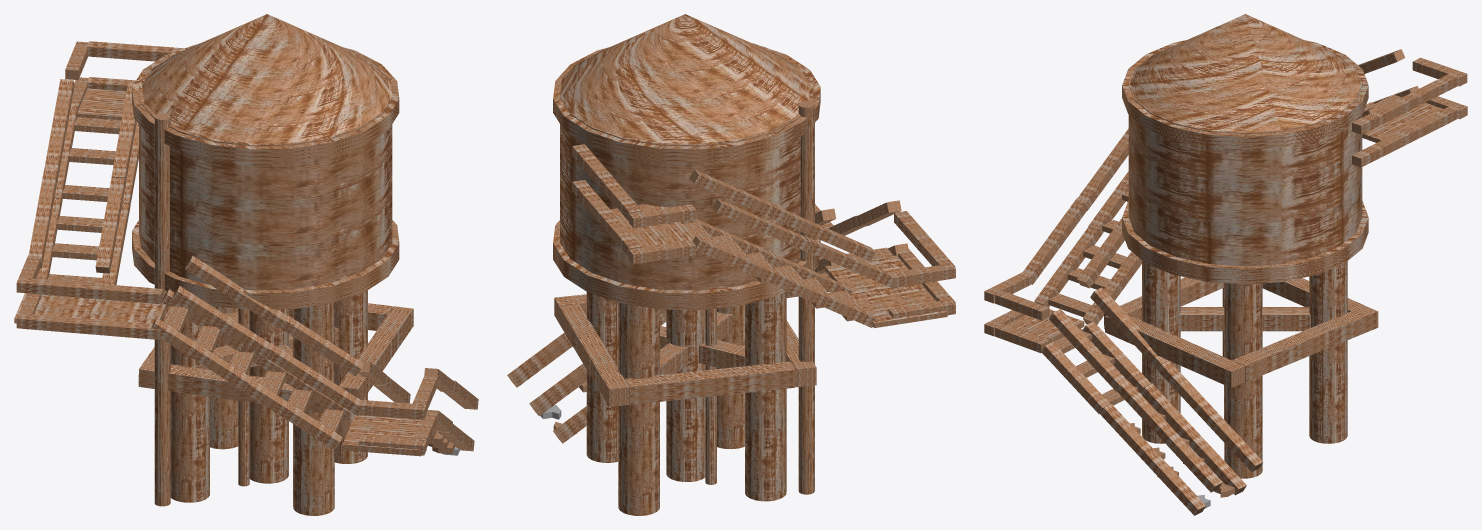
The model's file is Water Tower.fbx.
The picture shows the model from 3 angles, left to right: view 1: azimuth 30°, elevation 25°; view 2: azimuth 150°, elevation 25°; view 3: azimuth 270°, elevation 25°; orthographic projection. The views are drawn at different scales.
Parts seen in each view (by area): view 1: pCylinder1, pCone1, pCylinder9, pCylinder10, pCylinder3, pCylinder5, pCylinder6, pCylinder7, pCube9, pCube71, pCylinder4, pCube7 (+33 smaller); view 2: pCone1, pCylinder1, pCylinder2, pCylinder5, pCylinder9, pCylinder6, pCylinder10, pCube5, pCylinder4, pCube71, pCylinder7, pCube8 (+27 smaller); view 3: pCylinder1, pCone1, pCylinder2, pCylinder4, pCylinder9, pCube8, pCylinder7, pCylinder3, pCube7, pCylinder8, pCube10, pCube12 (+25 smaller).
Boxes of the visible parts, bbox=[...] form: pCylinder1: bbox=[139, 55, 392, 290]; pCone1: bbox=[142, 14, 392, 143]; pCylinder9: bbox=[132, 43, 399, 163]; pCylinder10: bbox=[154, 113, 170, 506]; pCylinder3: bbox=[293, 302, 334, 515]; pCylinder5: bbox=[170, 319, 209, 502]; pCylinder6: bbox=[249, 309, 288, 483]; pCylinder7: bbox=[132, 220, 399, 302]; pCube9: bbox=[138, 360, 326, 412]; pCube71: bbox=[14, 293, 167, 323]; pCylinder4: bbox=[334, 290, 367, 463]; pCube7: bbox=[339, 306, 413, 399]; pCone1: bbox=[560, 14, 810, 143]; pCylinder1: bbox=[560, 54, 813, 290]; pCylinder2: bbox=[618, 302, 659, 515]; pCylinder5: bbox=[745, 291, 786, 501]; pCylinder9: bbox=[553, 43, 820, 163]; pCylinder6: bbox=[666, 309, 705, 481]; pCylinder10: bbox=[798, 101, 814, 494]; pCube5: bbox=[625, 361, 795, 404]; pCylinder4: bbox=[586, 292, 618, 462]; pCube71: bbox=[825, 255, 947, 327]; pCylinder7: bbox=[553, 220, 820, 303]; pCube8: bbox=[559, 304, 629, 406]; pCylinder1: bbox=[1128, 44, 1362, 266]; pCone1: bbox=[1130, 14, 1360, 132]; pCylinder2: bbox=[1309, 261, 1347, 443]; pCylinder4: bbox=[1224, 283, 1262, 478]; pCylinder9: bbox=[1122, 40, 1368, 149]; pCube8: bbox=[1232, 306, 1378, 382]; pCylinder7: bbox=[1122, 201, 1368, 277]; pCylinder3: bbox=[1142, 260, 1180, 443]; pCube7: bbox=[1105, 315, 1244, 387]; pCylinder8: bbox=[1122, 220, 1368, 284]; pCube10: bbox=[1100, 404, 1205, 515]; pCube12: bbox=[1157, 360, 1263, 471].
Size of the model in its own units: 20.96 by 20.37 by 21.04.
2 materials, 1 textured.
